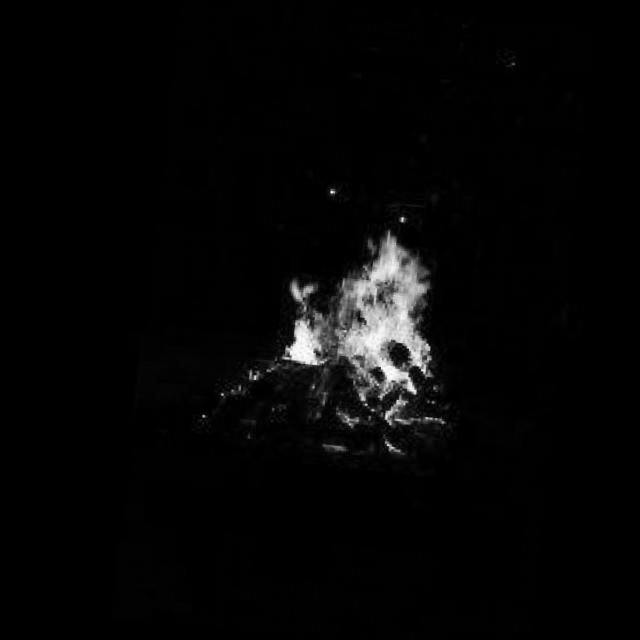fire: (220, 214, 470, 431)
